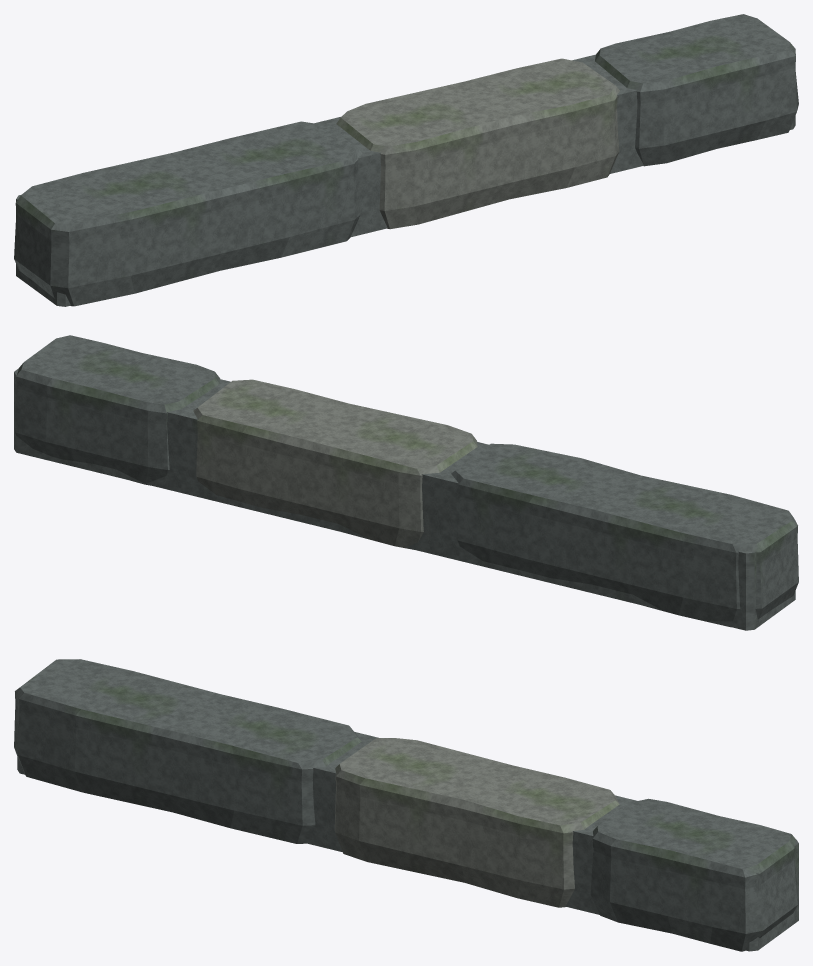
File: stair-tread-c.glb
3 views of the same model, one above another, from view 1: azimuth 30°, elevation 25°; view 2: azimuth 150°, elevation 25°; view 3: azimuth 330°, elevation 25° (orthographic).
Parts seen in each view (by area): view 1: Hand-dressed granite nosing, three individual voussoirs and ; view 2: Hand-dressed granite nosing, three individual voussoirs and ; view 3: Hand-dressed granite nosing, three individual voussoirs and .
Part boxes in pixels (x1,y1,x2,y2): Hand-dressed granite nosing, three individual voussoirs and : [14, 14, 798, 306]; Hand-dressed granite nosing, three individual voussoirs and : [14, 335, 798, 630]; Hand-dressed granite nosing, three individual voussoirs and : [14, 659, 798, 951].
Size of the model in its own units: 3 by 0.32 by 0.38.
Materials: 1 (1 with a texture image).
